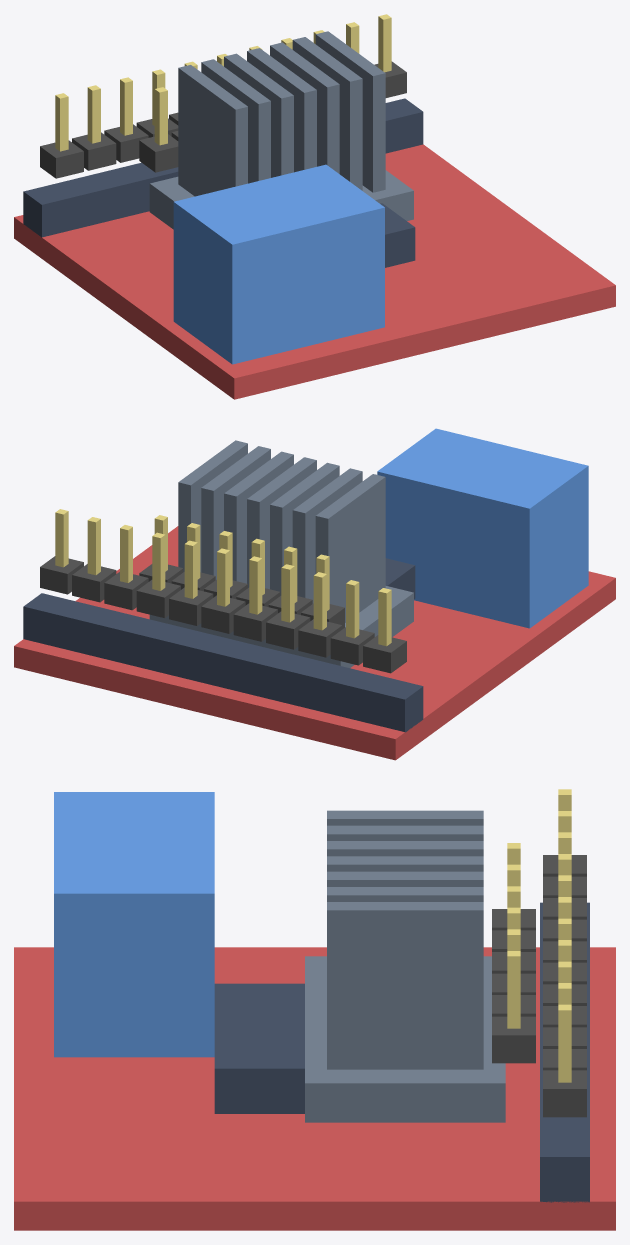
Rendered from drv8825-stepper-driver.glb.
3 renders of one model, top to bottom at view 1: azimuth 30°, elevation 25°; view 2: azimuth 150°, elevation 25°; view 3: azimuth 270°, elevation 25°, orthographic. The views are drawn at different scales.
Visible parts, largest first — view 1: drv8825-stepper-driver_mesh; view 2: drv8825-stepper-driver_mesh; view 3: drv8825-stepper-driver_mesh.
Part boxes in pixels (x1,y1,x2,y2): drv8825-stepper-driver_mesh: (14, 14, 615, 399); drv8825-stepper-driver_mesh: (14, 428, 615, 760); drv8825-stepper-driver_mesh: (14, 789, 615, 1230).
Bounding box in the file's own units: 30 × 13.36 × 30.
